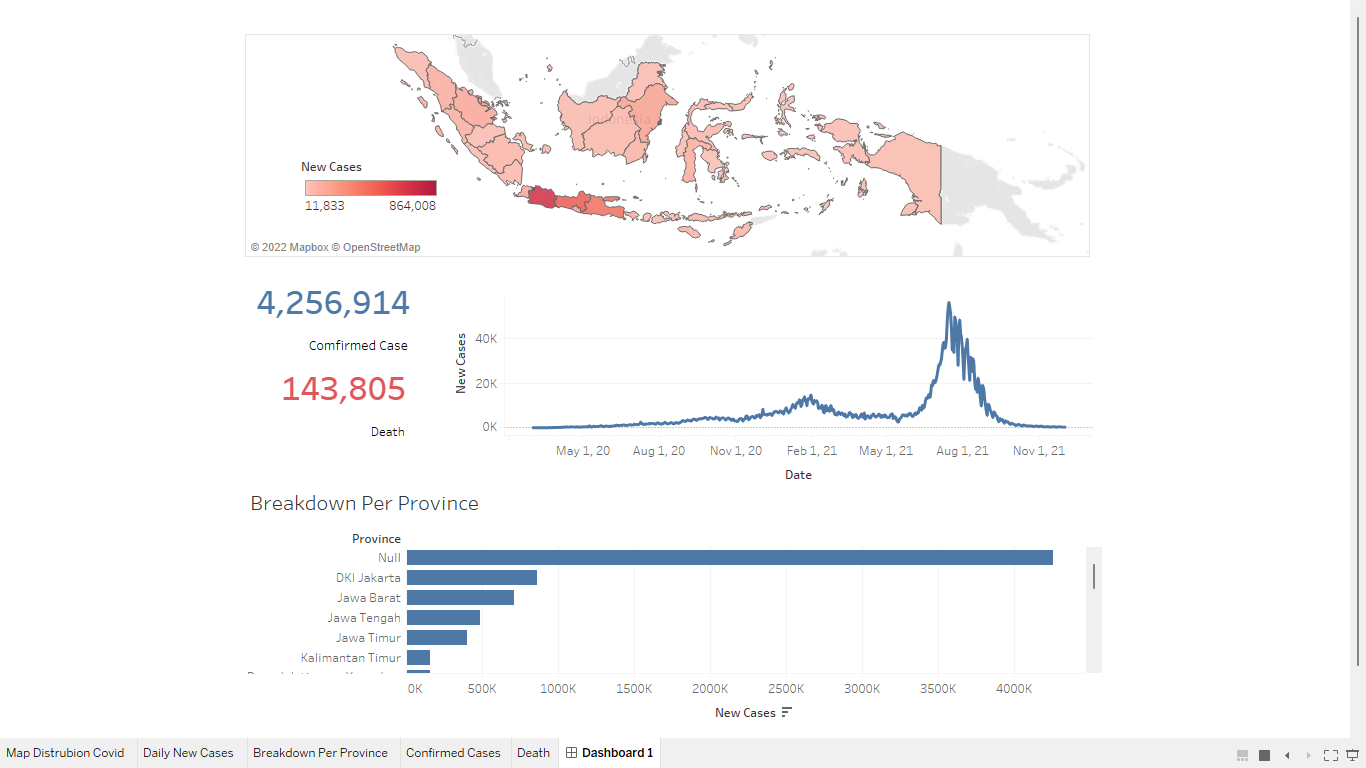

The dashboard page shown, as its layout file describes it:
{"tool":"tableau","page":{"name":"Dashboard 1","canvas":[1000,800],"ordinal":0},"visuals":[{"type":"worksheet","title":"Map Distrubion Covid","mark":"Automatic","box":[71,19,845,238]},{"type":"legend","title":"Map Distrubion Covid","param":"[federated.18t3y3t087ax2f1cblert1ug8fg1].[sum:New Cases:qk]","box":[127,158,140,76]},{"type":"worksheet","title":"Confirmed Cases","mark":"Automatic","box":[60,264,223,74]},{"type":"worksheet","title":"Daily New Cases ","mark":"Automatic","rows":["New Cases"],"cols":["Date"],"box":[271,279,648,211]},{"type":"text","box":[132,330,128,30]},{"type":"worksheet","title":"Death","mark":"Automatic","box":[96,350,197,86]},{"type":"text","box":[194,416,100,30]},{"type":"worksheet","title":"Breakdown Per Province","mark":"Automatic","rows":["Province"],"cols":["New Cases"],"box":[72,484,856,244]}]}

Visuals, with their boxes on the page's 1000x800 design canvas (x1, y1, x2, y2). These are canvas units, not pixel positions in the 1366x768 screenshot, which may show the page scaled, cropped or inside an application window:
"Map Distrubion Covid" worksheet: 71,19,916,257
"Map Distrubion Covid" legend: 127,158,267,234
"Confirmed Cases" worksheet: 60,264,283,338
"Daily New Cases " worksheet: 271,279,919,490
text: 132,330,260,360
"Death" worksheet: 96,350,293,436
text: 194,416,294,446
"Breakdown Per Province" worksheet: 72,484,928,728
